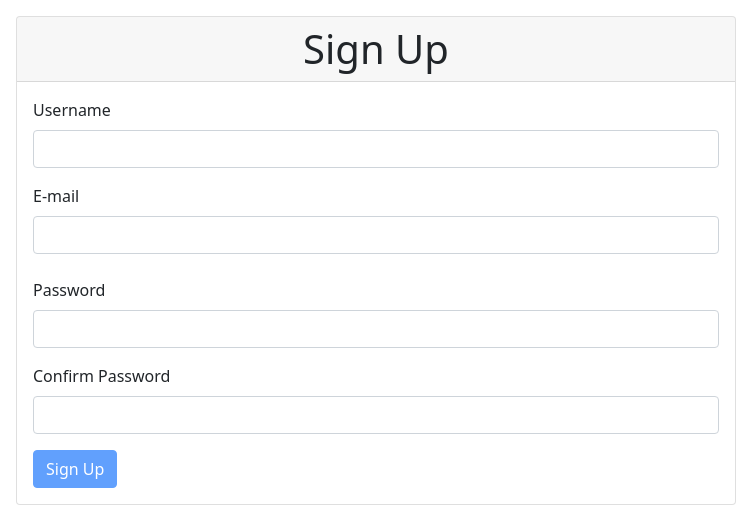
Test case: Interactions › enables the button when the password and password repeat fields have same value
The image size is (753, 522).
Step 1. Type "P4ssw0rd" into the password field labelled "Password" → (376,329), box [33,310,719,348]
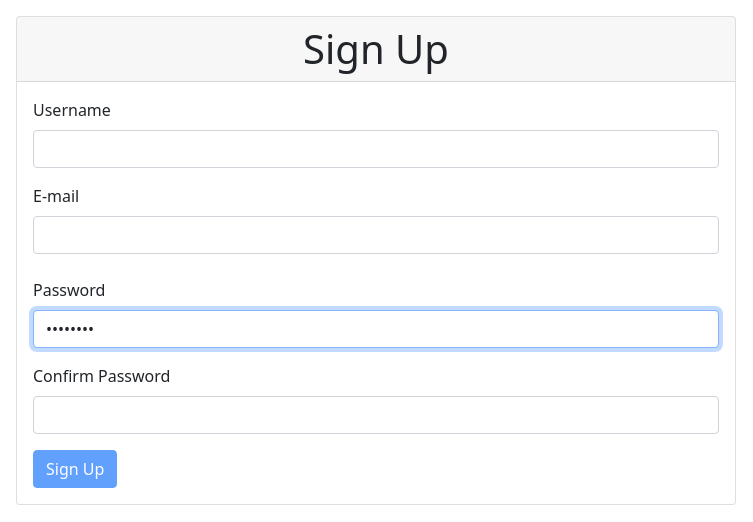
Step 2. Type "P4ssw0rd" into the password field labelled "Confirm Password" → (376,415), box [33,396,719,434]
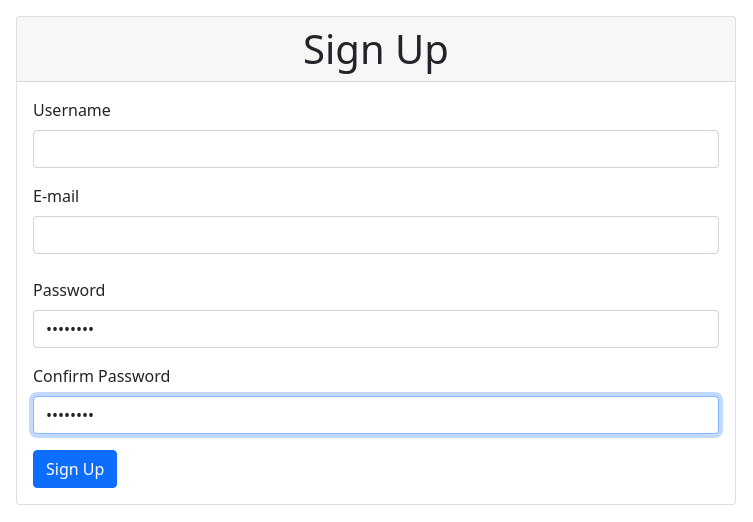
expect the button "Sign Up" is enabled: met, box [33,450,117,488]
